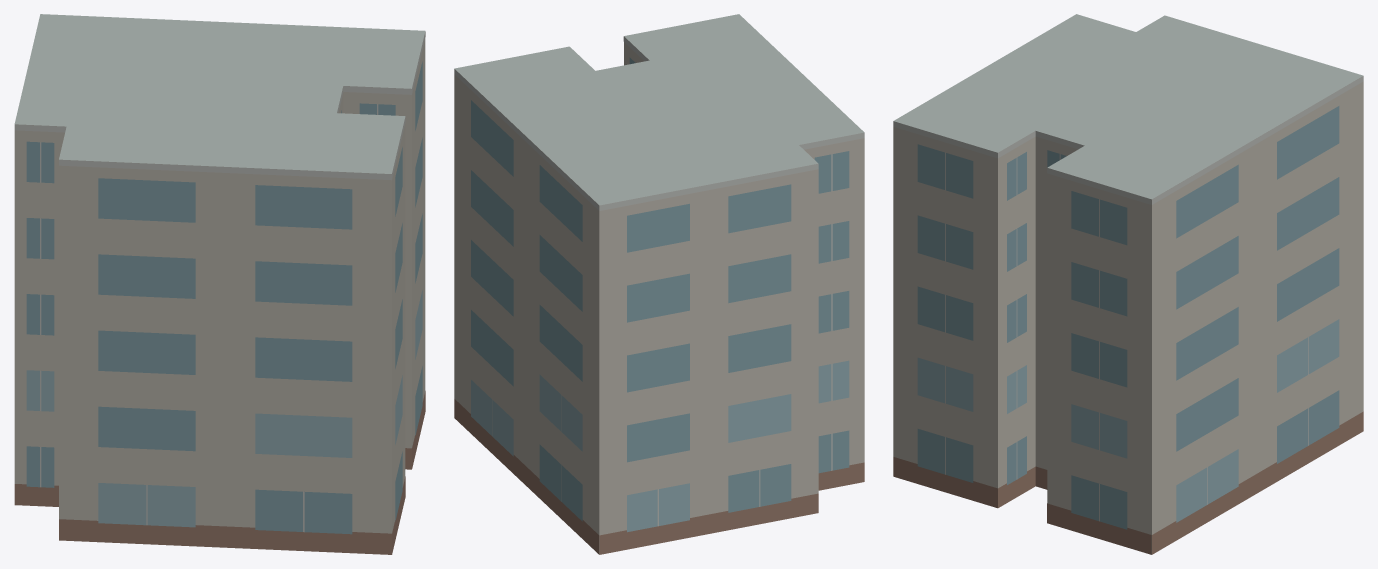
Rendered from survey-upis-32904425.glb.
3 renders of one model, left to right at view 1: azimuth 30°, elevation 25°; view 2: azimuth 150°, elevation 25°; view 3: azimuth 270°, elevation 25°, orthographic. The views are drawn at different scales.
Parts seen in each view (by area): view 1: survey-upis-32904425.tmp; view 2: survey-upis-32904425.tmp; view 3: survey-upis-32904425.tmp.
Part boxes in pixels (bbox=[...]): survey-upis-32904425.tmp: bbox=[14, 14, 425, 554]; survey-upis-32904425.tmp: bbox=[454, 14, 864, 554]; survey-upis-32904425.tmp: bbox=[893, 14, 1363, 554].
Size of the model in its own units: 17.07 by 15.25 by 18.3.
